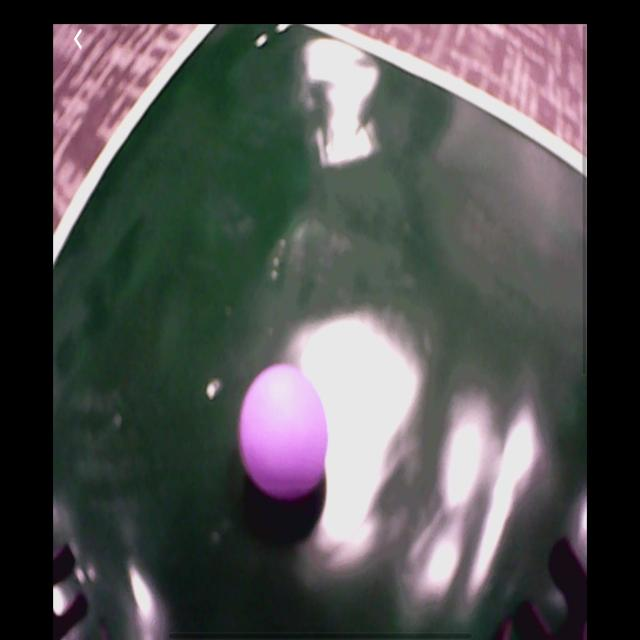ball: (242, 360, 330, 506)
